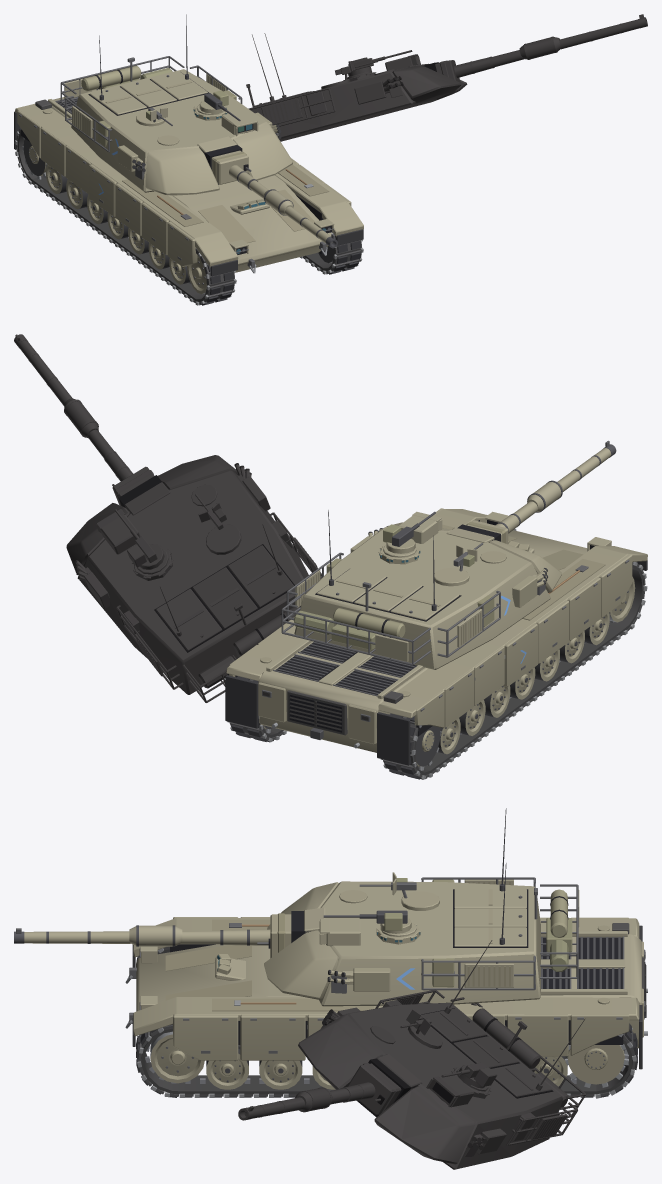
File: tank__m1a1_abrams.glb
3 renders of one model, top to bottom at view 1: azimuth 30°, elevation 25°; view 2: azimuth 150°, elevation 25°; view 3: azimuth 270°, elevation 25°, orthographic. The views are drawn at different scales.
Visible parts, largest first — view 1: Hull_Mesh, Turret_Mesh, Wreck, Track_L_Mesh, Gun_Mesh, Track_R_Mesh, Gunner_Sight_Mesh, Commander_Weapon_Station_Mesh, Sprocket_L_Mesh, Idler_L_Mesh, Hatch_Loader_Mesh, Wheel_L0_Mesh (+1 smaller); view 2: Wreck, Hull_Mesh, Turret_Mesh, Track_L_Mesh, Gun_Mesh, Hatch_Loader_Mesh, Commander_Weapon_Station_Mesh, Sprocket_L_Mesh, Gunner_Sight_Mesh, Track_R_Mesh, Wheel_L1_Mesh; view 3: Hull_Mesh, Wreck, Turret_Mesh, Track_R_Mesh, Gun_Mesh, Sprocket_R_Mesh, Idler_R_Mesh, Wheel_R6_Mesh, Wheel_R5_Mesh, Gunner_Sight_Mesh, Hatch_Loader_Mesh, Commander_Weapon_Station_Mesh (+2 smaller).
Boxes of the visible parts, x1=… form: Hull_Mesh: x1=14, y1=77, x2=363, y2=276; Turret_Mesh: x1=60, y1=56, x2=292, y2=195; Wreck: x1=246, y1=14, x2=647, y2=141; Track_L_Mesh: x1=14, y1=127, x2=236, y2=305; Gun_Mesh: x1=211, y1=150, x2=337, y2=248; Track_R_Mesh: x1=300, y1=232, x2=363, y2=274; Gunner_Sight_Mesh: x1=221, y1=110, x2=258, y2=136; Commander_Weapon_Station_Mesh: x1=199, y1=90, x2=240, y2=121; Sprocket_L_Mesh: x1=22, y1=137, x2=46, y2=179; Idler_L_Mesh: x1=187, y1=255, x2=206, y2=294; Hatch_Loader_Mesh: x1=136, y1=107, x2=172, y2=126; Wheel_L0_Mesh: x1=45, y1=164, x2=67, y2=193; Wreck: x1=14, y1=334, x2=321, y2=702; Hull_Mesh: x1=225, y1=508, x2=647, y2=765; Turret_Mesh: x1=281, y1=522, x2=561, y2=669; Track_L_Mesh: x1=380, y1=561, x2=647, y2=779; Gun_Mesh: x1=466, y1=440, x2=616, y2=544; Hatch_Loader_Mesh: x1=434, y1=543, x2=483, y2=586; Commander_Weapon_Station_Mesh: x1=383, y1=511, x2=435, y2=553; Sprocket_L_Mesh: x1=415, y1=726, x2=441, y2=770; Gunner_Sight_Mesh: x1=399, y1=511, x2=442, y2=543; Track_R_Mesh: x1=227, y1=676, x2=286, y2=742; Wheel_L1_Mesh: x1=459, y1=700, x2=485, y2=735; Hull_Mesh: x1=125, y1=917, x2=647, y2=1069; Wreck: x1=238, y1=940, x2=586, y2=1169; Turret_Mesh: x1=264, y1=877, x2=579, y2=1006; Track_R_Mesh: x1=136, y1=1023, x2=637, y2=1098; Gun_Mesh: x1=14, y1=913, x2=291, y2=958; Sprocket_R_Mesh: x1=564, y1=1044, x2=628, y2=1087; Idler_R_Mesh: x1=150, y1=1031, x2=204, y2=1083; Wheel_R6_Mesh: x1=206, y1=1045, x2=248, y2=1089; Wheel_R5_Mesh: x1=259, y1=1060, x2=302, y2=1089; Gunner_Sight_Mesh: x1=319, y1=919, x2=360, y2=946; Hatch_Loader_Mesh: x1=359, y1=872, x2=439, y2=910; Commander_Weapon_Station_Mesh: x1=323, y1=910, x2=411, y2=933.
Size of what is drawn, in the model's own units: 11.14 by 3.67 by 9.79.
